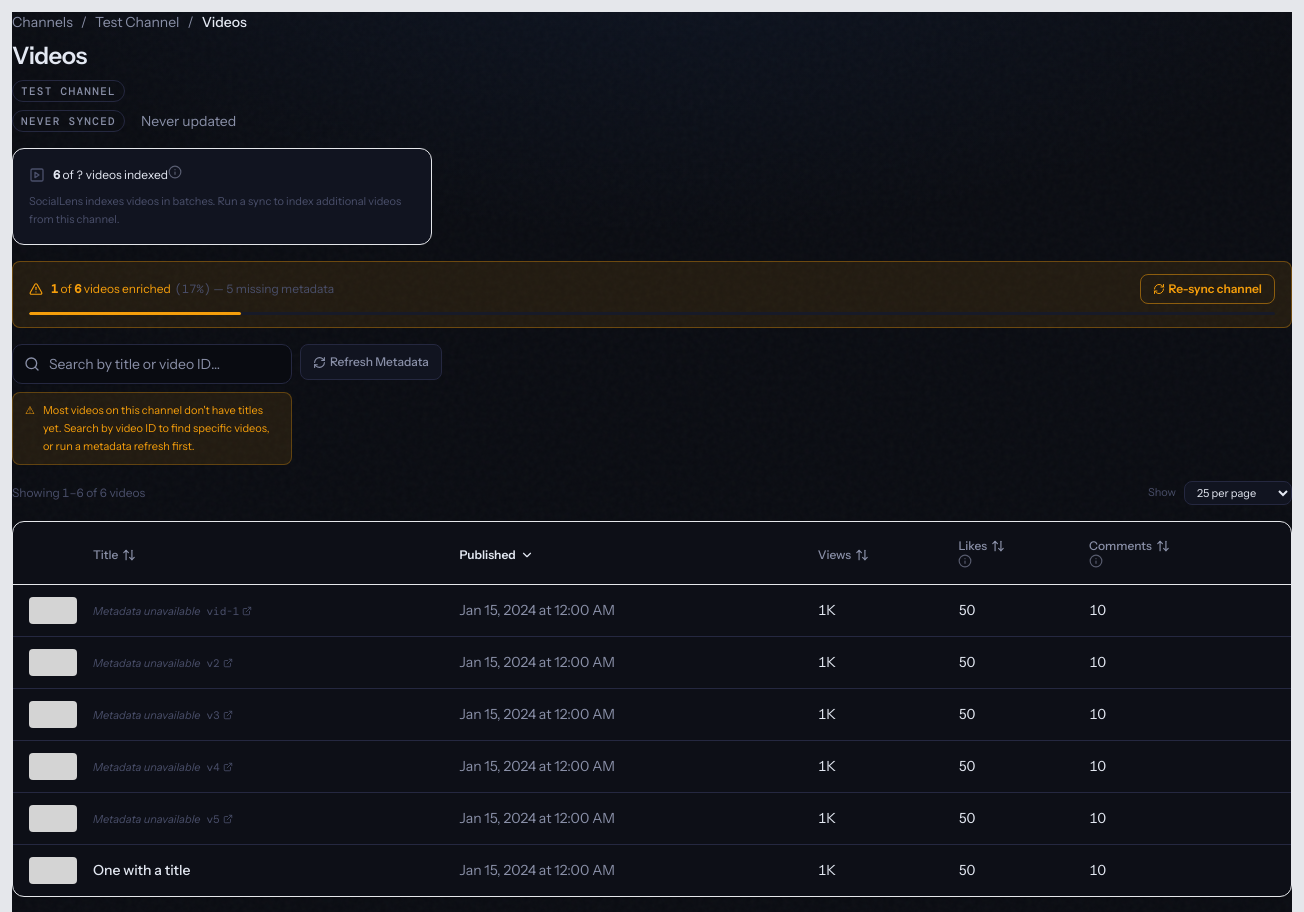
Test: ChannelVideosPage › missing title warning › refresh button is disabled while refresh is pending
The width and height of the screenshot is (1304, 912).
Step 1. Click the button "Re-sync channel" → {"x": 1207, "y": 289}, box [1140, 274, 1275, 304]
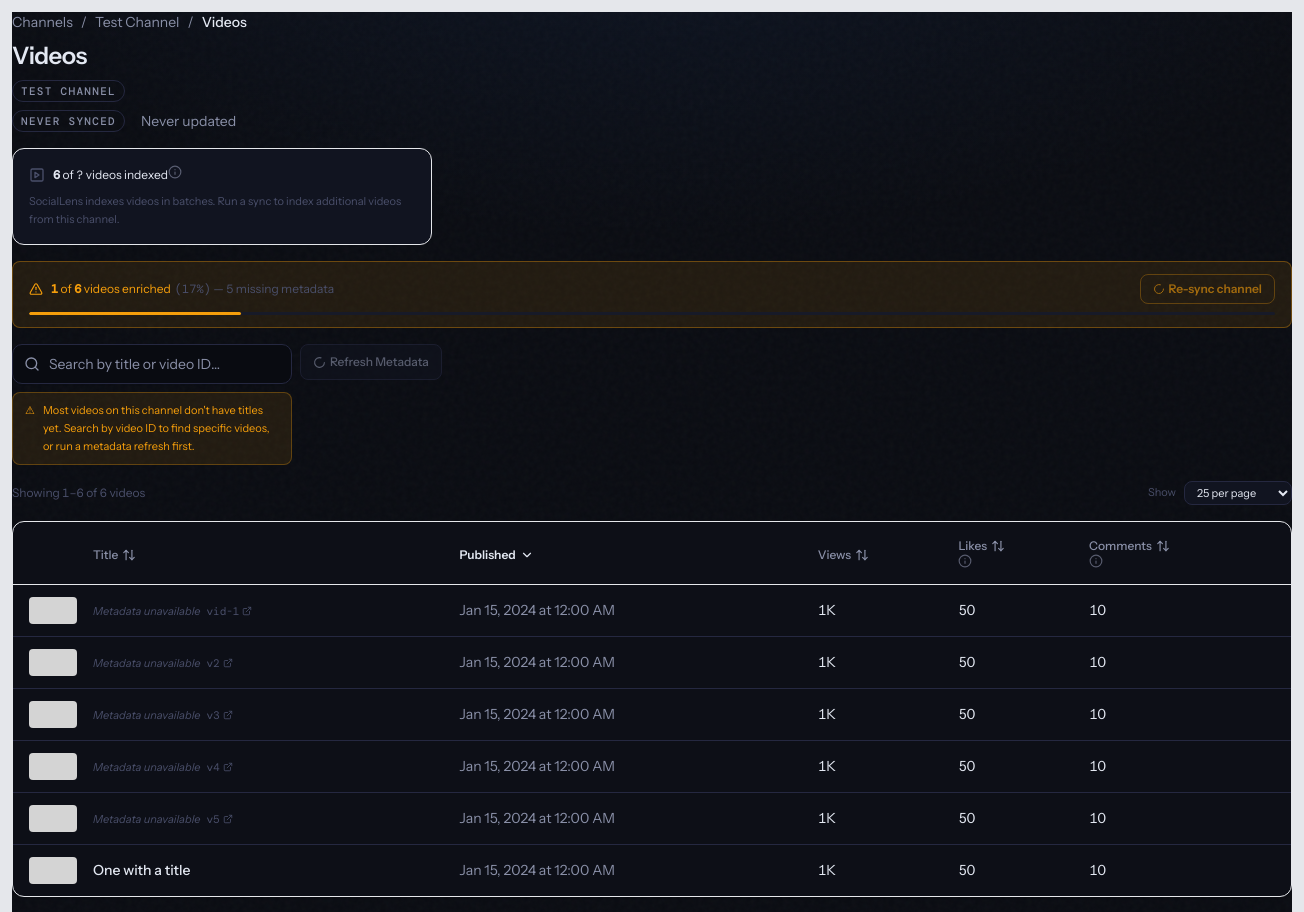
Now the button "Re-sync channel" is disabled, box [1140, 274, 1275, 304]
